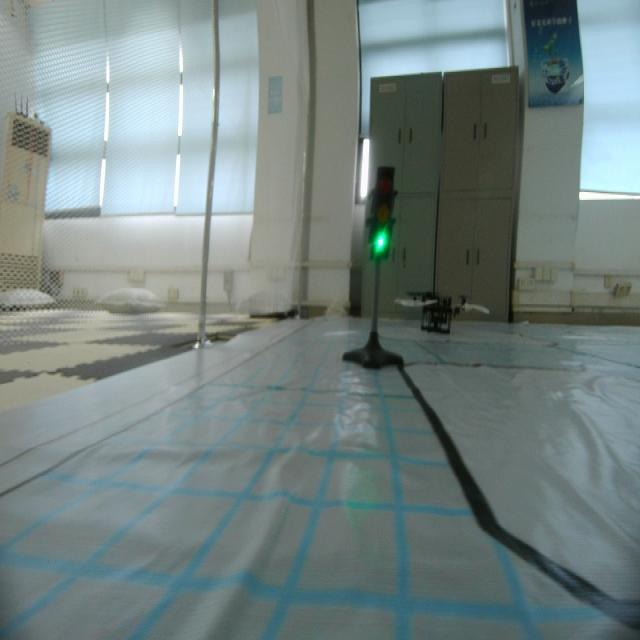green: (370, 163, 398, 263)
